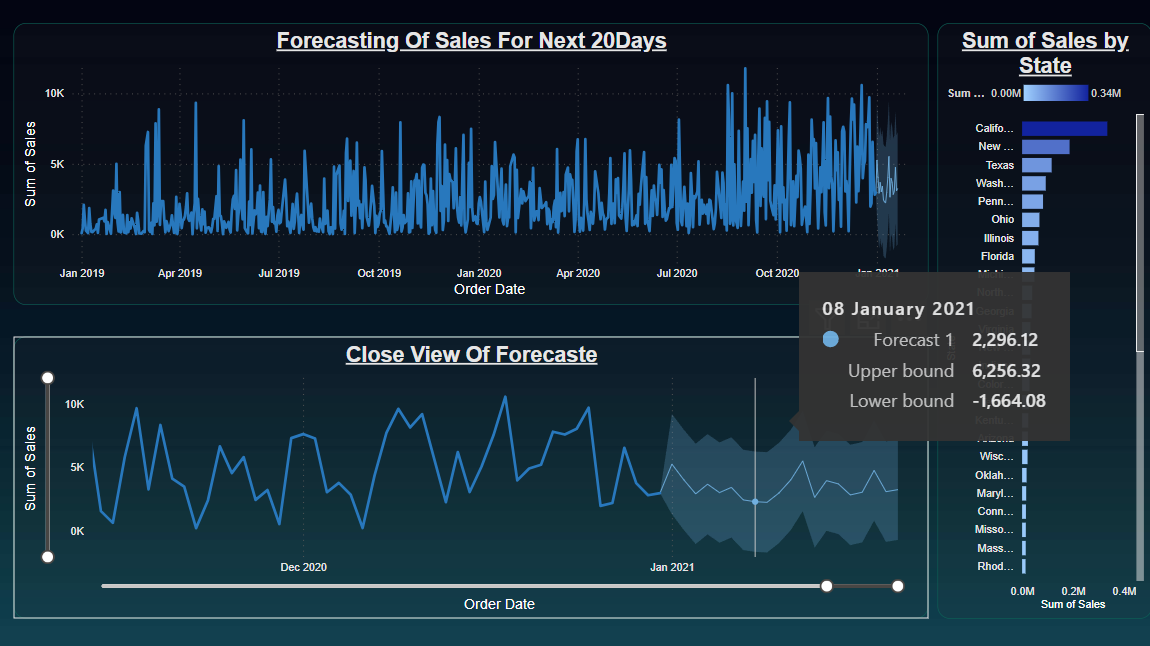

Layout of this report page (visuals, bound fields, positions):
{"tool":"powerbi","page":{"name":"Page 2","canvas":[1280,720],"ordinal":1},"visuals":[{"type":"lineChart","title":"Forecasting Of Sales For Next 20Days","fields":{"Category":["SuperStore_Sales_Dataset.Order Date"],"Y":["Sum(SuperStore_Sales_Dataset.Sales)"]},"box":[15,26.7,1016.7,313.3],"z":0},{"type":"lineChart","title":"Close View Of Forecaste","fields":{"Category":["SuperStore_Sales_Dataset.Order Date"],"Y":["Sum(SuperStore_Sales_Dataset.Sales)"]},"box":[15,375,1016.7,313.3],"z":1000},{"type":"clusteredBarChart","fields":{"Y":["Sum(SuperStore_Sales_Dataset.Sales)"],"Category":["SuperStore_Sales_Dataset.State"]},"box":[1041.7,26.7,238.3,661.7],"z":2000}]}

Visuals, with their boxes in screenshot pixels (x1, y1, x2, y2), scaled from the page's 1280x720 canvas onto the 1150x646 screenshot:
"Forecasting Of Sales For Next 20Days" lineChart: (13,24,927,305)
"Close View Of Forecaste" lineChart: (13,336,927,618)
clusteredBarChart - Sum(SuperStore_Sales_Dataset.Sales) x SuperStore_Sales_Dataset.State: (936,24,1149,618)
